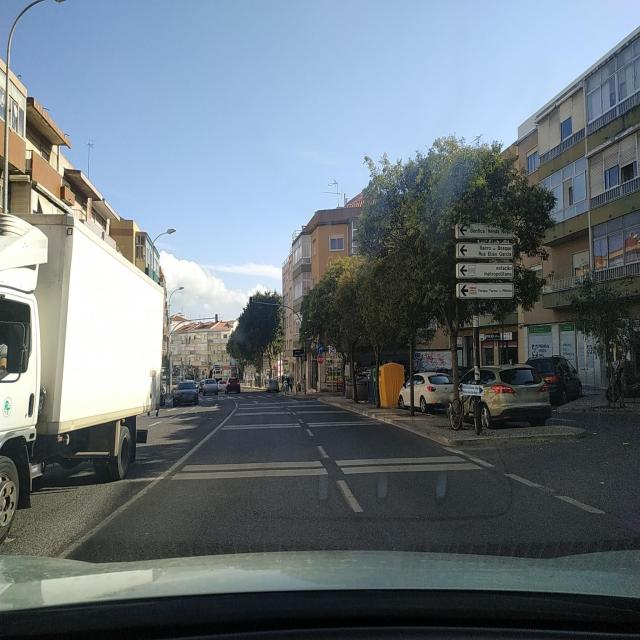bike: (606, 370, 626, 408)
car: (446, 362, 552, 430), (524, 354, 583, 406), (397, 370, 453, 414), (172, 380, 200, 408), (202, 378, 219, 397), (226, 376, 242, 395), (264, 378, 280, 393), (216, 377, 228, 393)
